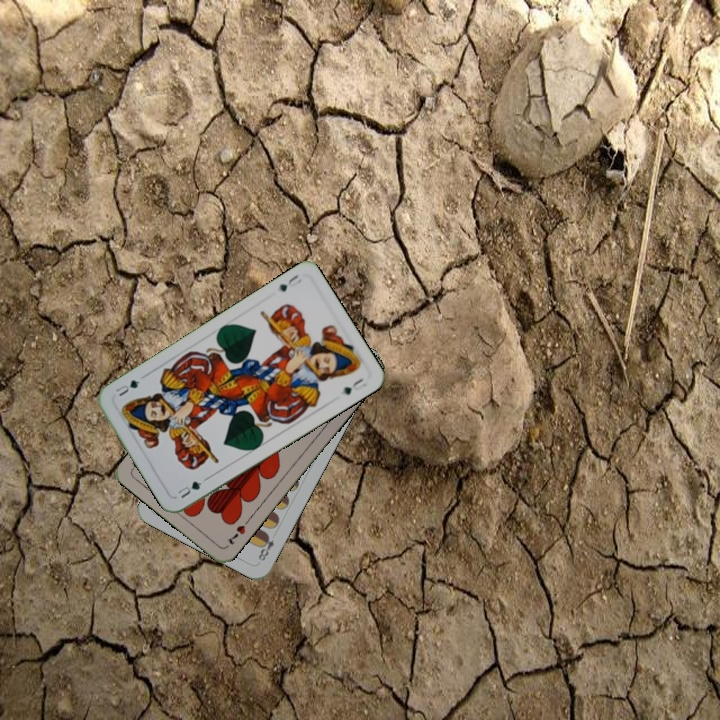E8: (254, 530, 277, 565)
GU: (173, 477, 204, 501), (275, 270, 304, 294)
H7: (224, 515, 252, 547)
